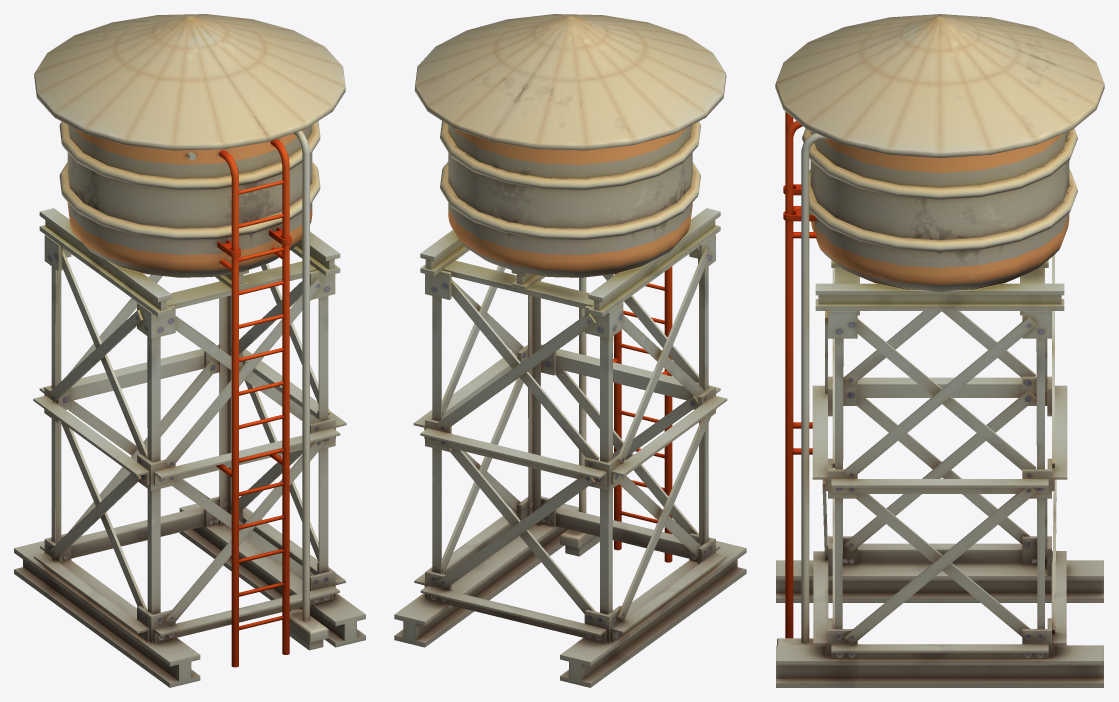
Rendered from WaterTower01.FBX.
The picture shows the model from 3 angles, left to right: view 1: azimuth 30°, elevation 25°; view 2: azimuth 150°, elevation 25°; view 3: azimuth 270°, elevation 25°; orthographic projection. The views are drawn at different scales.
Parts seen in each view (by area): view 1: WaterTower01; view 2: WaterTower01; view 3: WaterTower01.
Boxes of the visible parts, x1,y1,x2,y2 form: WaterTower01: (14,14,365,687); WaterTower01: (394,14,746,687); WaterTower01: (775,14,1104,687).
Size of what is drawn, in the model's own units: 4.8 by 9.98 by 4.81.
